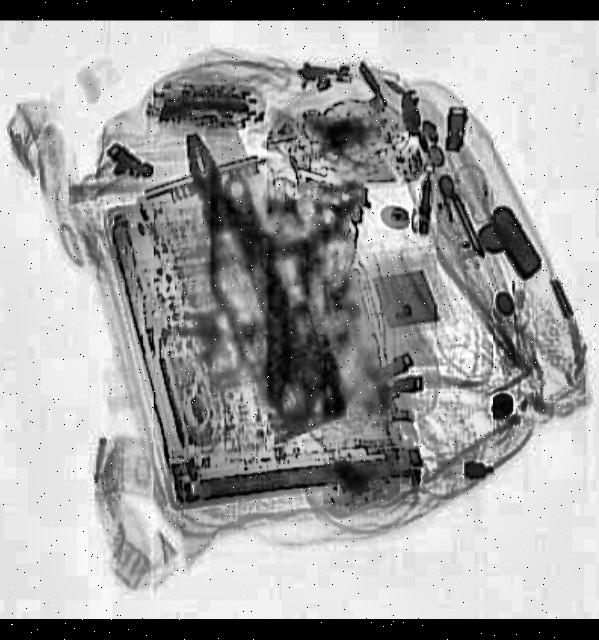Pliers: (160, 120, 300, 330)
